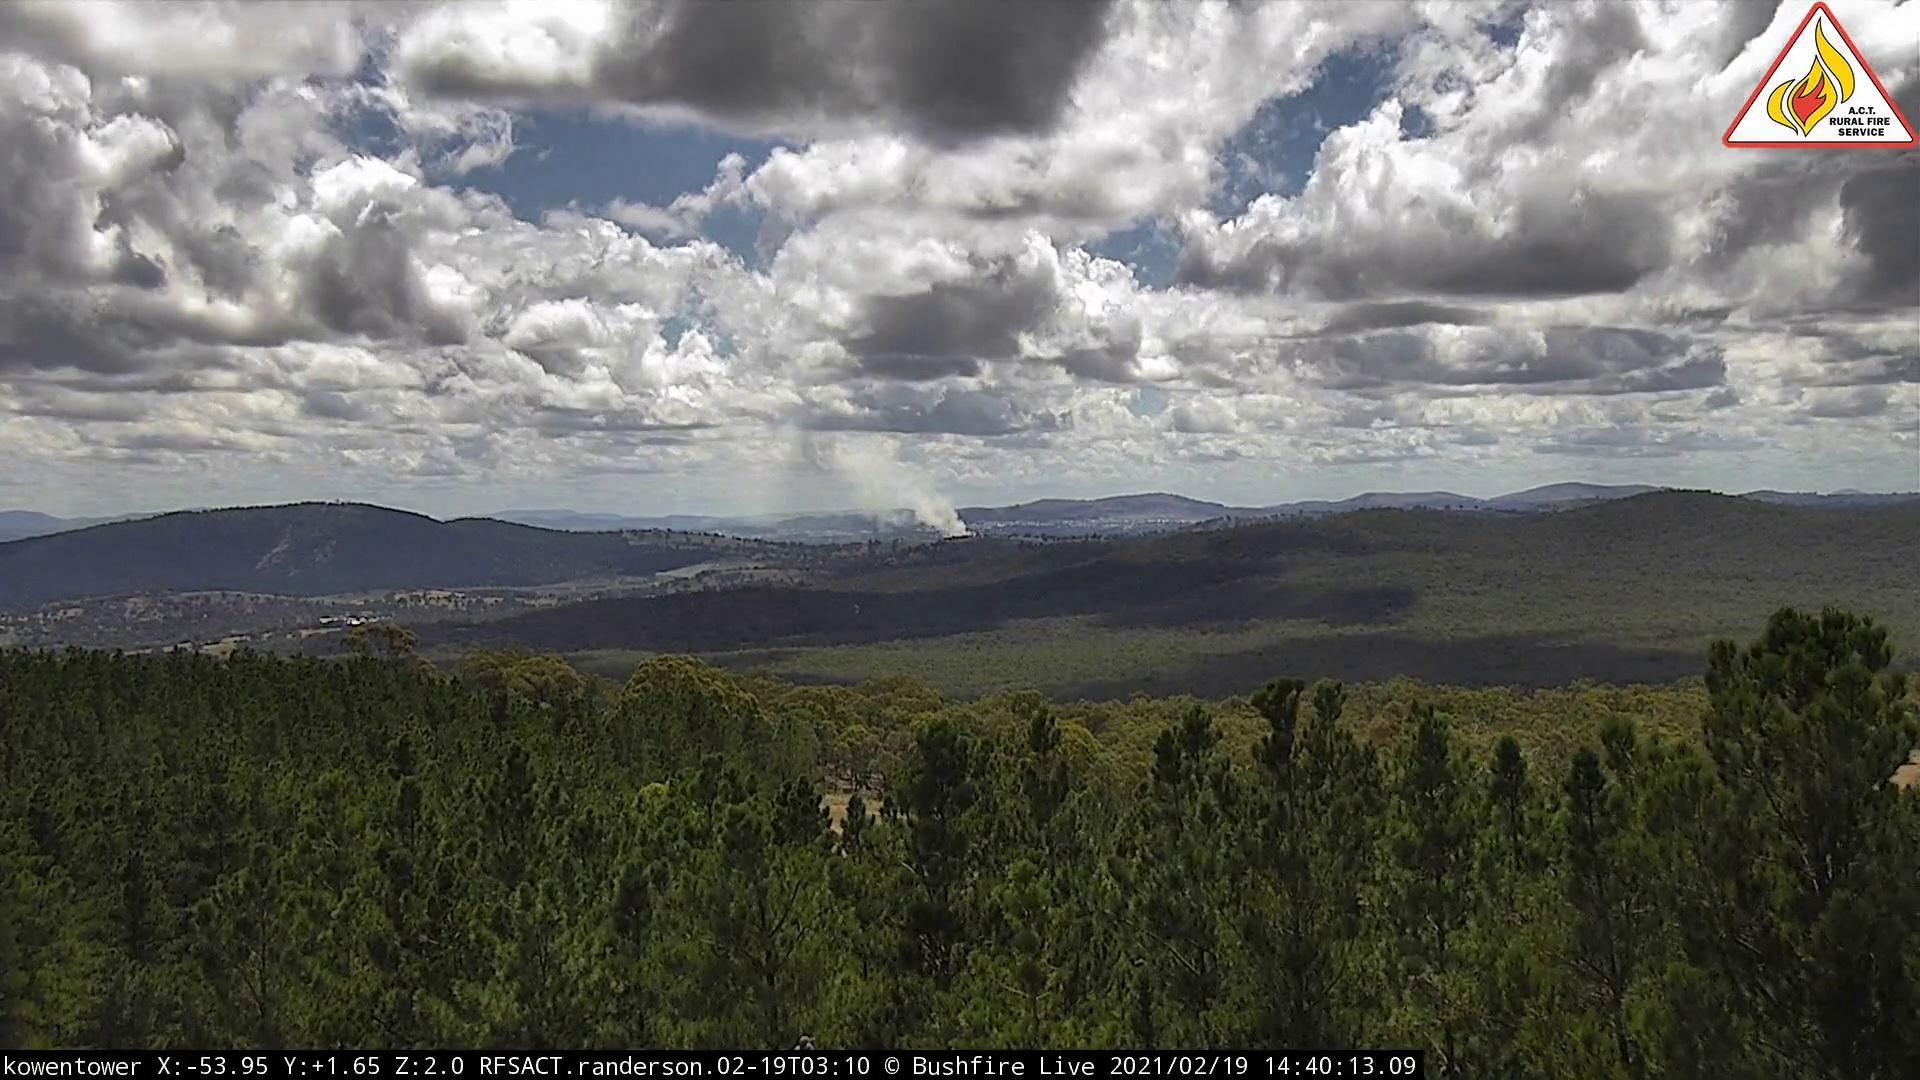Smoke: (752, 440, 977, 549)
